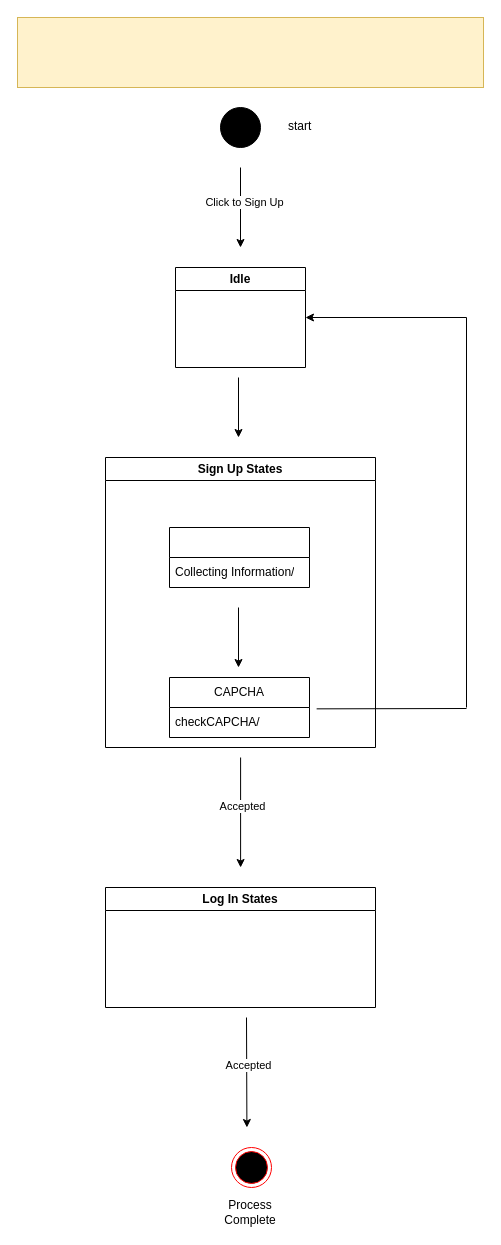
Image size: 501x1245. Some labels were removed from this diagram. Here are the shapes that lost their labels. From the top down, the box of each, then its label:
(16, 16, 484, 88): Sign Up
(168, 526, 310, 588): Information Collection
